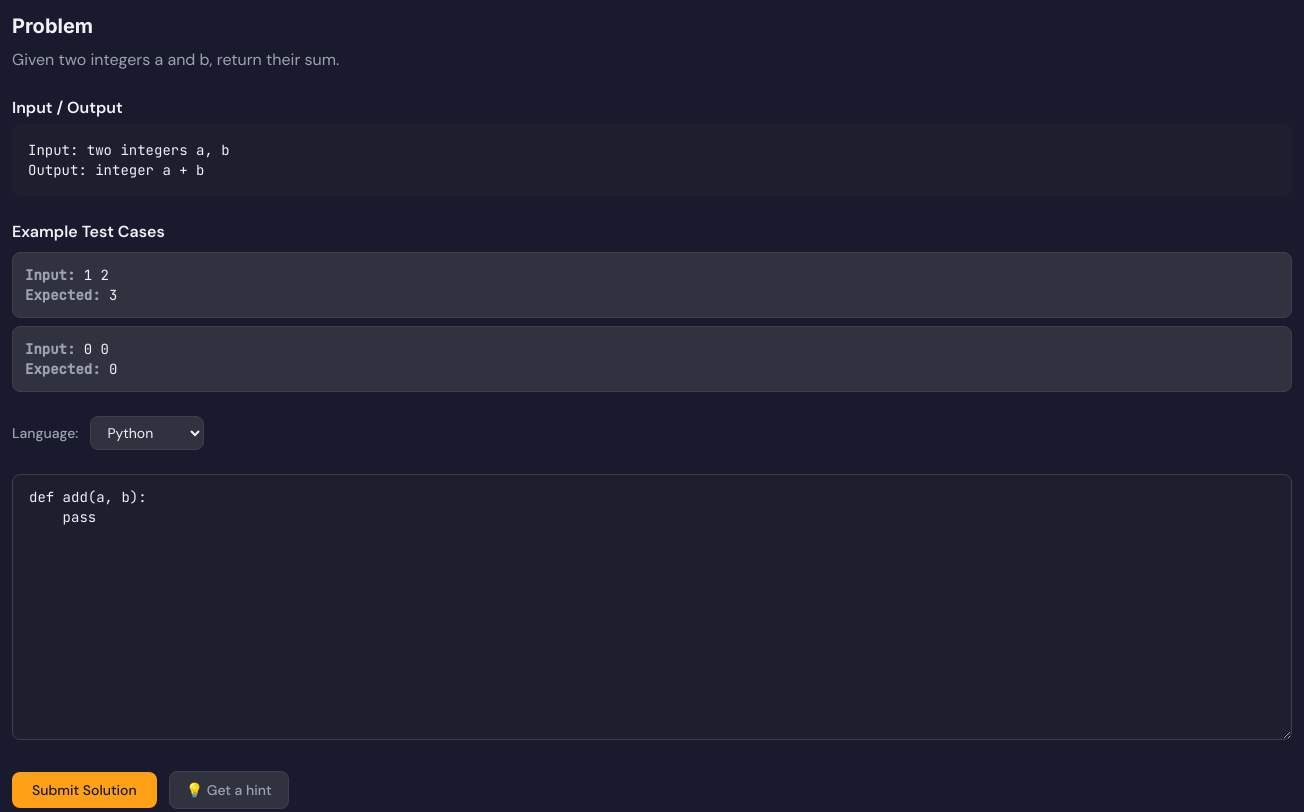
CodeChallenge › disables submit when code is empty
Clear the text box named "Code editor" at (652, 607), box [12,474,1292,740]
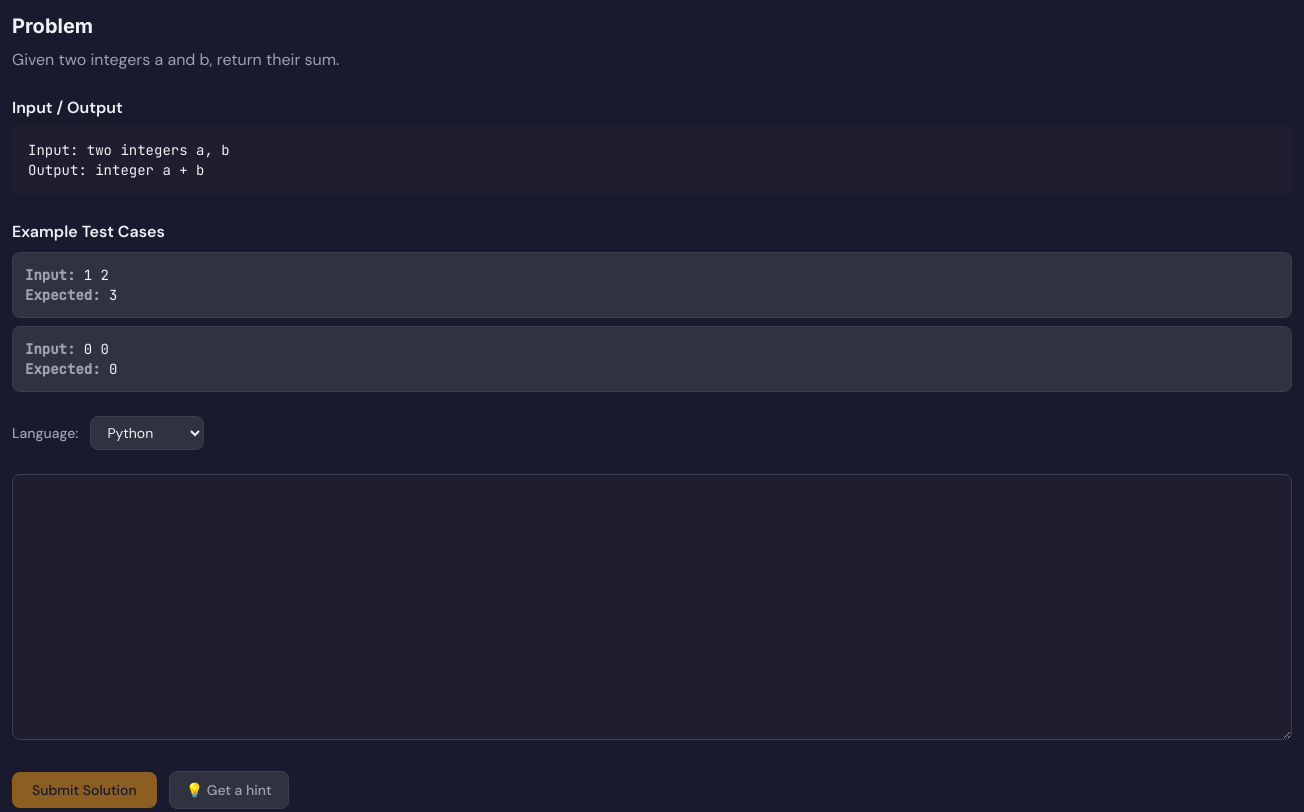
Result: the button labelled "Submit Solution" is disabled at [12,772,157,808]
